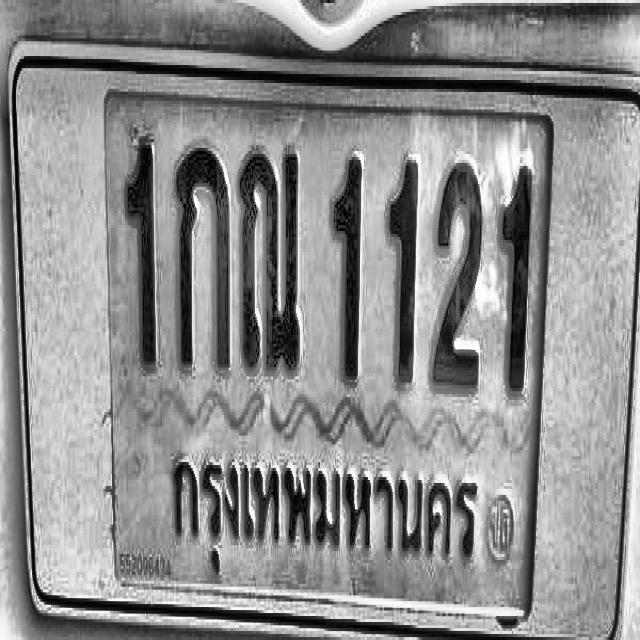license-plate: (1, 12, 640, 640)
